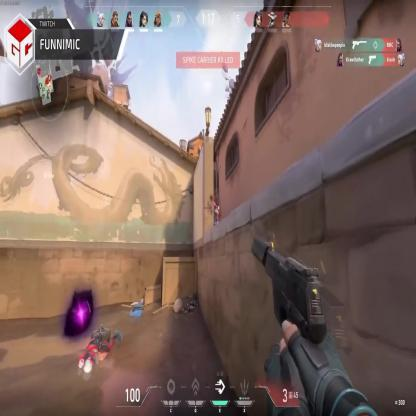enemy: (210, 198, 218, 230)
enemy_head: (212, 198, 216, 207)
